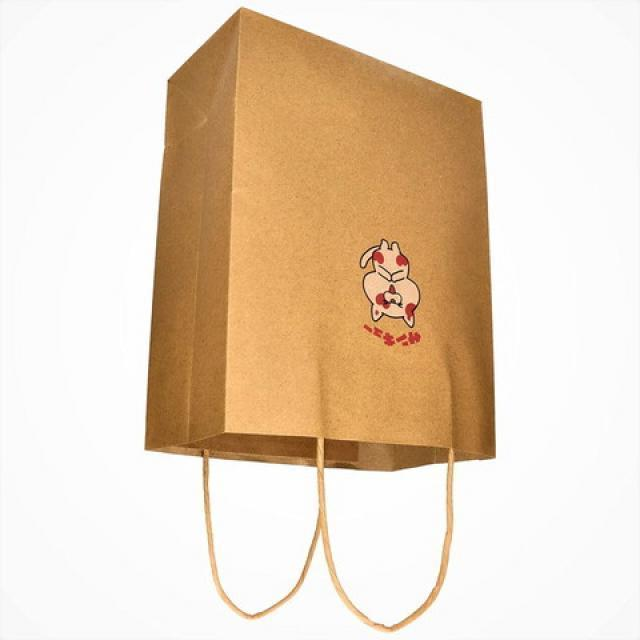Kardus: (144, 8, 497, 634)
